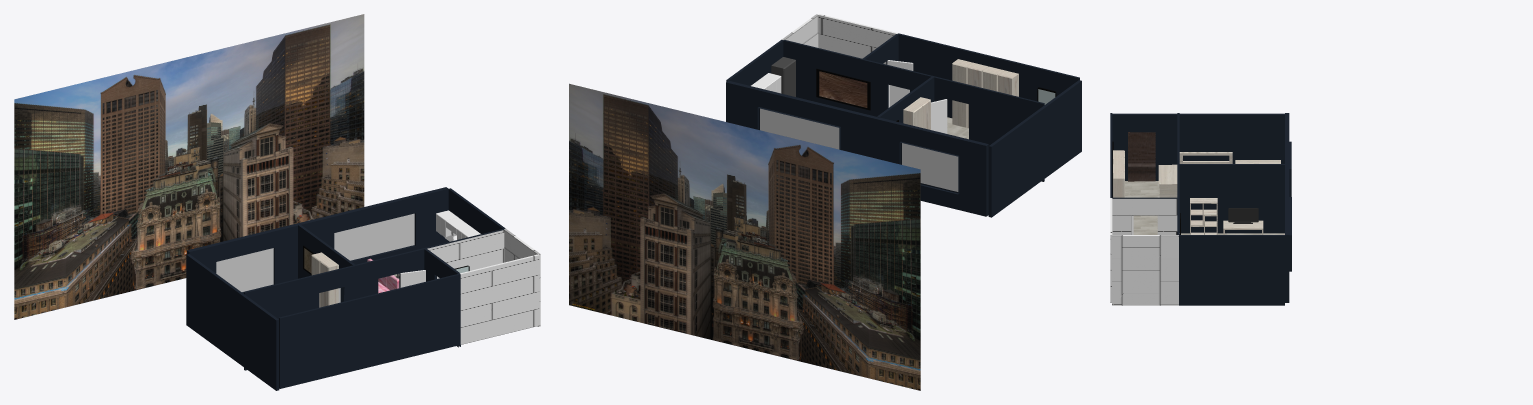
3 views of the same model, side by side, from view 1: azimuth 30°, elevation 25°; view 2: azimuth 150°, elevation 25°; view 3: azimuth 270°, elevation 25° (orthographic). The views are drawn at different scales.
Parts seen in each view (by area): view 1: Плоскость, стена кор, стена ванн2, стена больш, стена комн, СТЕКЛО, стена общ.001, СТЕНА КОРН, СТЕНА КОМН, стена ванн, стена гост, стена кух (+5 smaller); view 2: Плоскость, стена больш, стена комн, стена гост, стена кор, СТЕКЛО, стена общ.001, СТЕНА КОРН, стена ванн2, картинавтурии.001, шкаф.001, стена кух (+8 smaller); view 3: стена кух, стена общ, стена комн, стан ванн, СТЕНА КОРН, стена ванн внутр, ДВЕРИ.001, ПОЛ, стена больш, шкаф??, комод.001, телик (+2 smaller).
Part boxes in pixels (bbox=[...]): Плоскость: bbox=[14, 14, 364, 319]; стена кор: bbox=[279, 273, 460, 388]; стена ванн2: bbox=[460, 254, 539, 344]; стена больш: bbox=[187, 187, 448, 292]; стена комн: bbox=[186, 248, 460, 365]; СТЕКЛО: bbox=[216, 213, 414, 291]; стена общ.001: bbox=[244, 265, 355, 370]; СТЕНА КОРН: bbox=[242, 295, 279, 390]; СТЕНА КОМН: bbox=[189, 225, 297, 293]; стена ванн: bbox=[427, 230, 504, 278]; стена гост: bbox=[355, 229, 504, 298]; стена кух: bbox=[448, 188, 505, 241]; Плоскость: bbox=[569, 83, 920, 390]; стена больш: bbox=[726, 80, 988, 216]; стена комн: bbox=[863, 34, 1047, 217]; стена гост: bbox=[783, 39, 933, 116]; стена кор: bbox=[897, 33, 1079, 118]; СТЕКЛО: bbox=[760, 108, 958, 191]; стена общ.001: bbox=[933, 76, 1044, 181]; СТЕНА КОРН: bbox=[1045, 80, 1081, 176]; стена ванн2: bbox=[818, 14, 897, 64]; картинавтурии.001: bbox=[819, 71, 867, 107]; шкаф.001: bbox=[952, 59, 987, 128]; стена кух: bbox=[726, 39, 783, 85]; стена кух: bbox=[1179, 235, 1284, 305]; стена общ: bbox=[1179, 164, 1284, 233]; стена комн: bbox=[1112, 113, 1284, 198]; стан ванн: bbox=[1112, 235, 1178, 305]; СТЕНА КОРН: bbox=[1112, 113, 1177, 180]; стена ванн внутр: bbox=[1112, 198, 1177, 234]; ДВЕРИ.001: bbox=[1128, 132, 1155, 181]; ПОЛ: bbox=[1125, 181, 1284, 234]; стена больш: bbox=[1285, 113, 1291, 302]; шкаф??: bbox=[1190, 198, 1217, 234]; комод.001: bbox=[1158, 164, 1177, 197]; телик: bbox=[1228, 208, 1258, 223].
Bounding box in the file's own units: 1350 × 813 × 1417.
